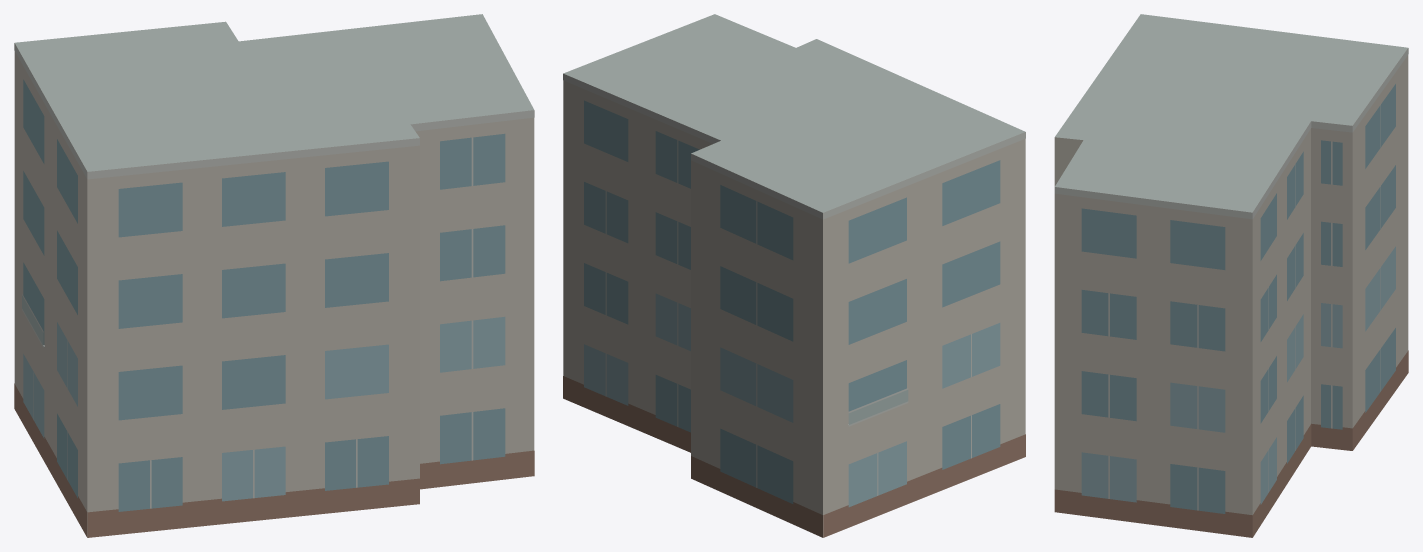
The model's file is survey-upis-32880086.glb.
The picture shows the model from 3 angles, left to right: view 1: azimuth 30°, elevation 25°; view 2: azimuth 150°, elevation 25°; view 3: azimuth 270°, elevation 25°; orthographic projection. The views are drawn at different scales.
Visible parts, largest first — view 1: survey-upis-32880086.tmp; view 2: survey-upis-32880086.tmp; view 3: survey-upis-32880086.tmp.
Boxes of the visible parts, <box> form: survey-upis-32880086.tmp: <box>14,14,534,537</box>; survey-upis-32880086.tmp: <box>563,14,1025,537</box>; survey-upis-32880086.tmp: <box>1054,14,1408,537</box>.
Bounding box in the file's own units: 15.47 × 11.8 × 11.65.
